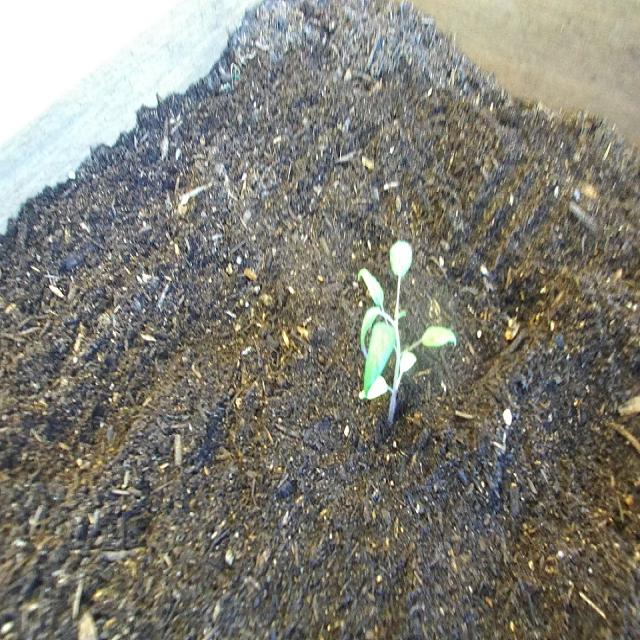Healthy: (354, 236, 458, 433)
